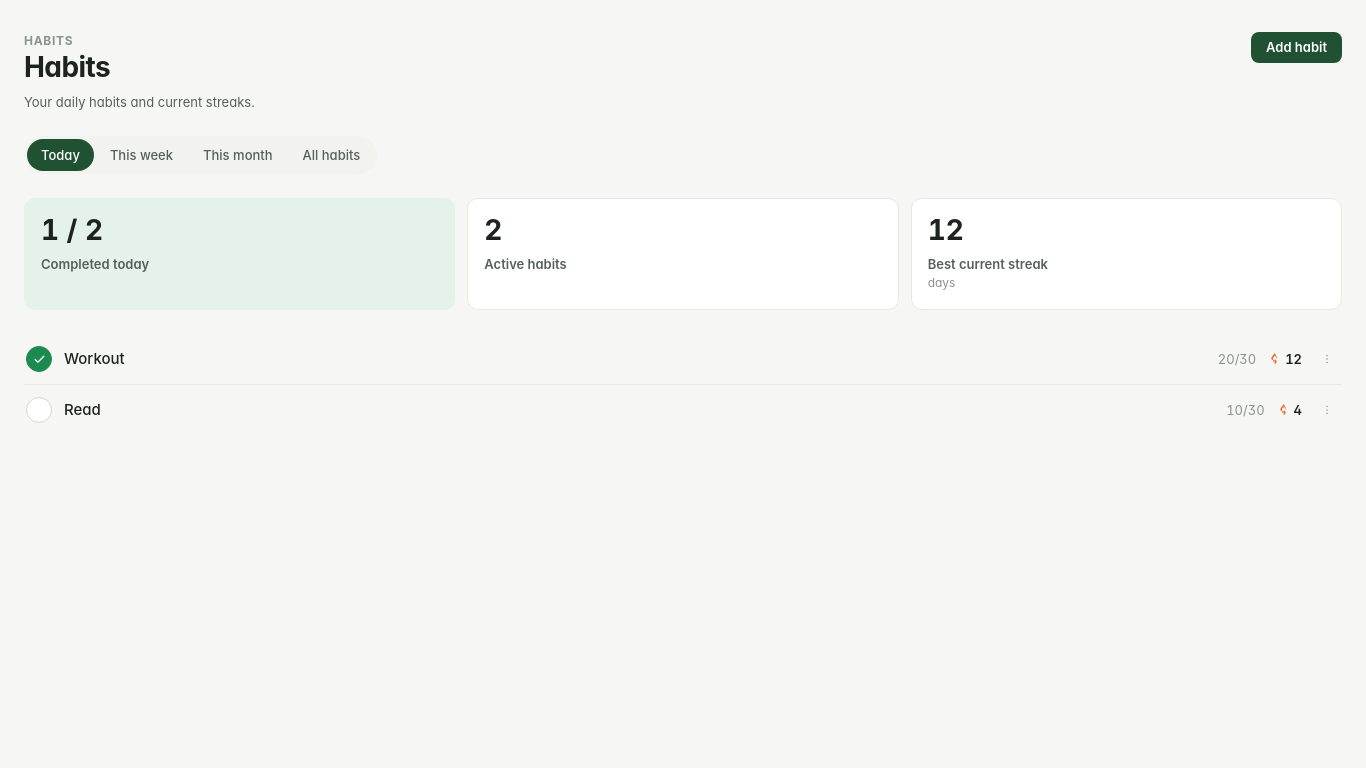
Test: HabitsScreen › opens the add-habit dialog
Click the button "Add habit" at (1297, 48), box [1251,32,1342,63]
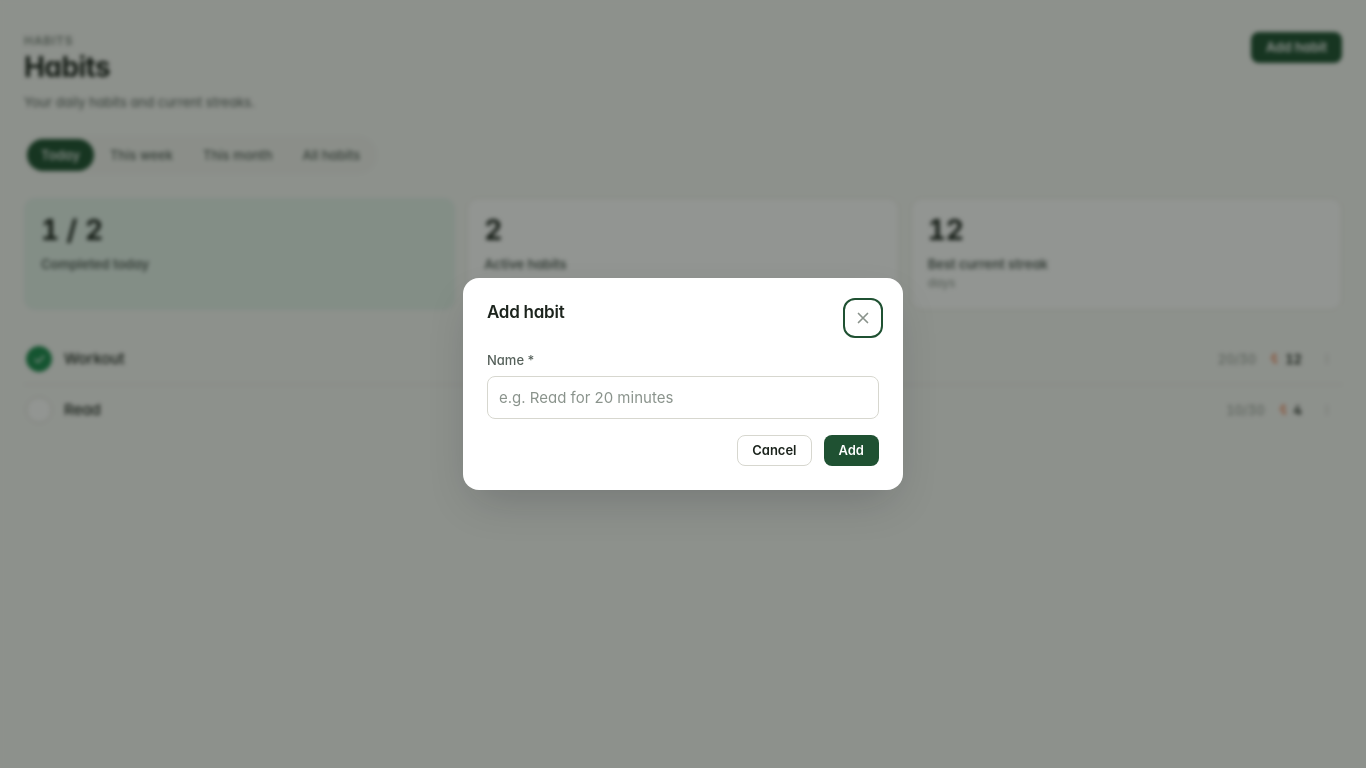
Result: the dialog "Add habit" is shown at [463,278,903,490]
